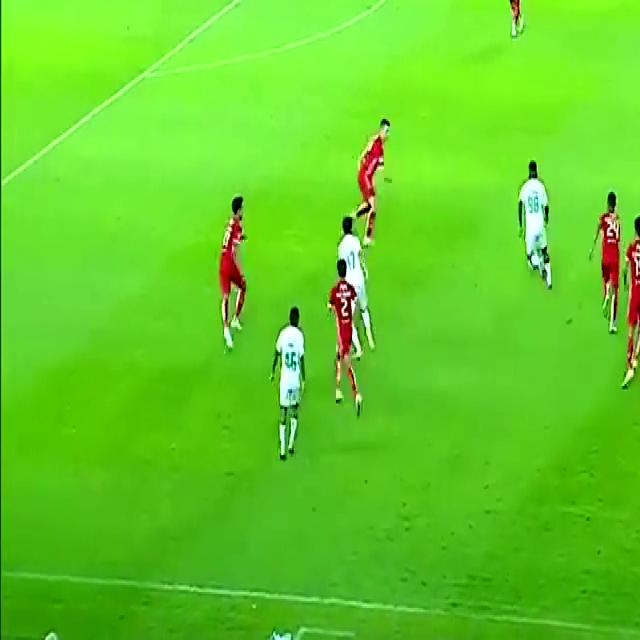soccer-player: (203, 186, 260, 359), (262, 300, 316, 470), (512, 150, 566, 298), (349, 107, 408, 242), (318, 266, 368, 421), (584, 179, 628, 337), (621, 208, 640, 395), (497, 0, 540, 46)
